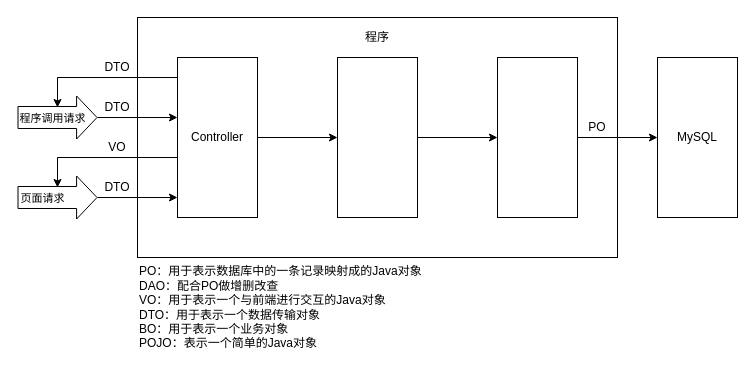
Some shapes in this 755 by 375 pixel diagram are drawn without their labels. The centre of each missing label's shape, as x and y in pixels:
Dao: pixel 537 137
Service Bo处理: pixel 377 137
